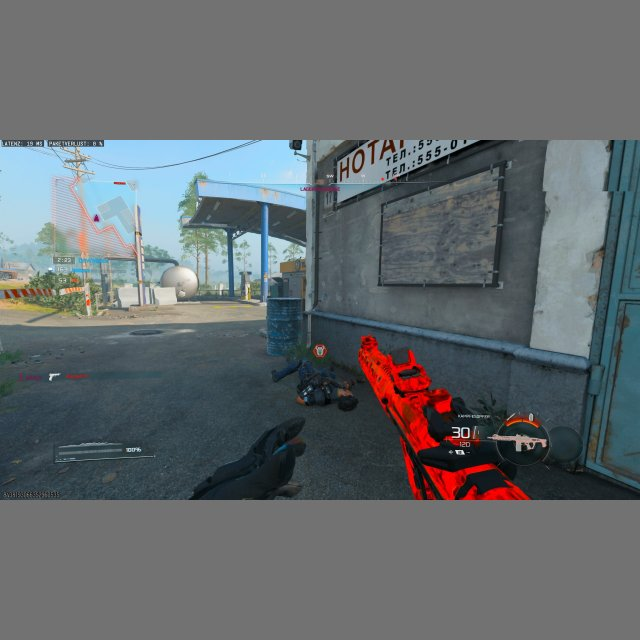head: (337, 392, 358, 412)
